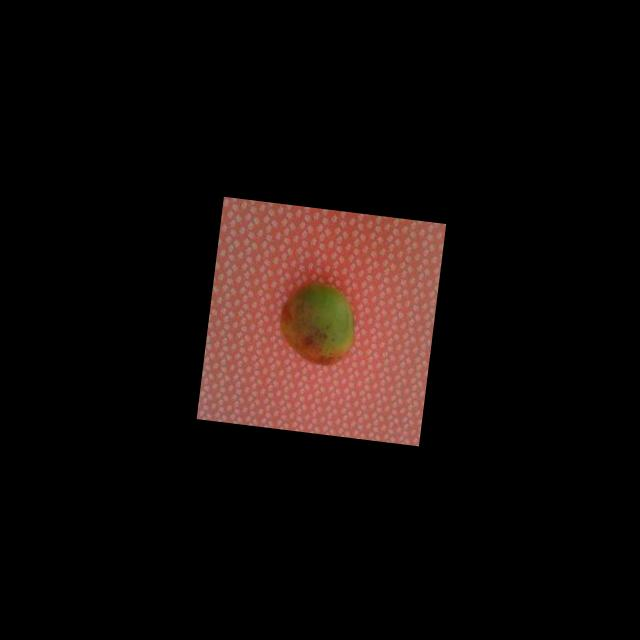Mango: (272, 276, 358, 368)
